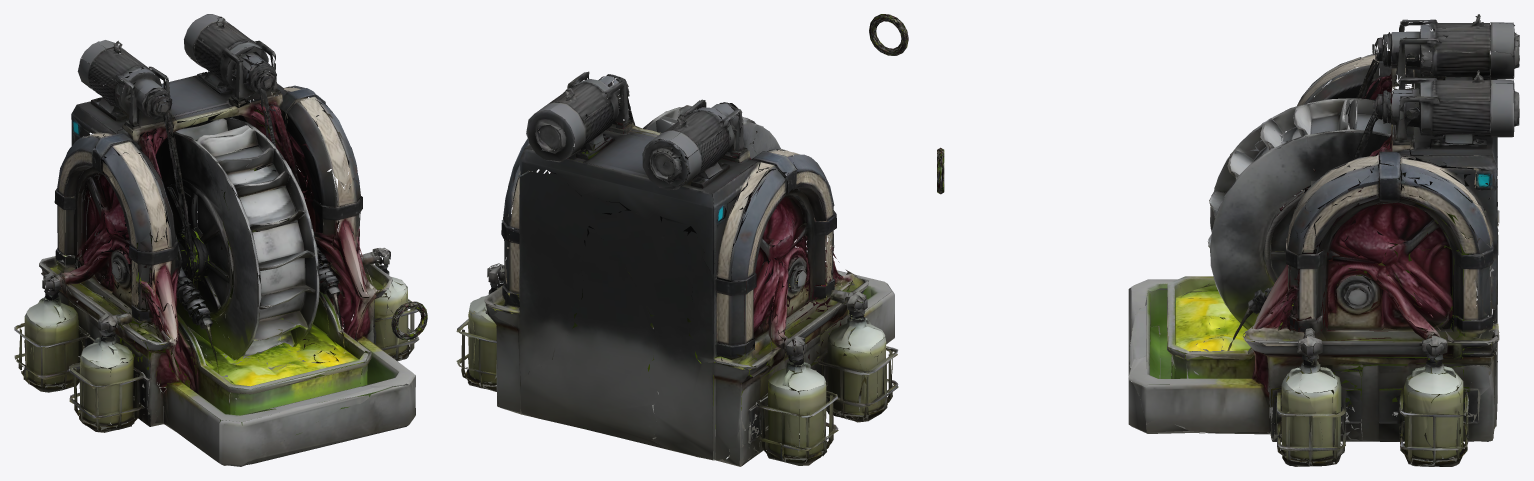
File: sump_acid_skimmer_separator.glb
3 views of the same model, side by side, from view 1: azimuth 30°, elevation 25°; view 2: azimuth 150°, elevation 25°; view 3: azimuth 270°, elevation 25° (orthographic). The views are drawn at different scales.
Parts seen in each view (by area): view 1: node_0, HB_ROTOR_00; view 2: node_0, HB_ROTOR_00; view 3: node_0.
Boxes of the visible parts, left/top/right/bottom form: node_0: left=14, top=14, right=419, bottom=466; HB_ROTOR_00: left=391, top=301, right=427, bottom=339; node_0: left=456, top=71, right=898, bottom=466; HB_ROTOR_00: left=869, top=14, right=908, bottom=55; node_0: left=1128, top=14, right=1519, bottom=466.
Size of the model in its own units: 0.8358 by 0.7433 by 1.15.
1 material, 1 textured.
